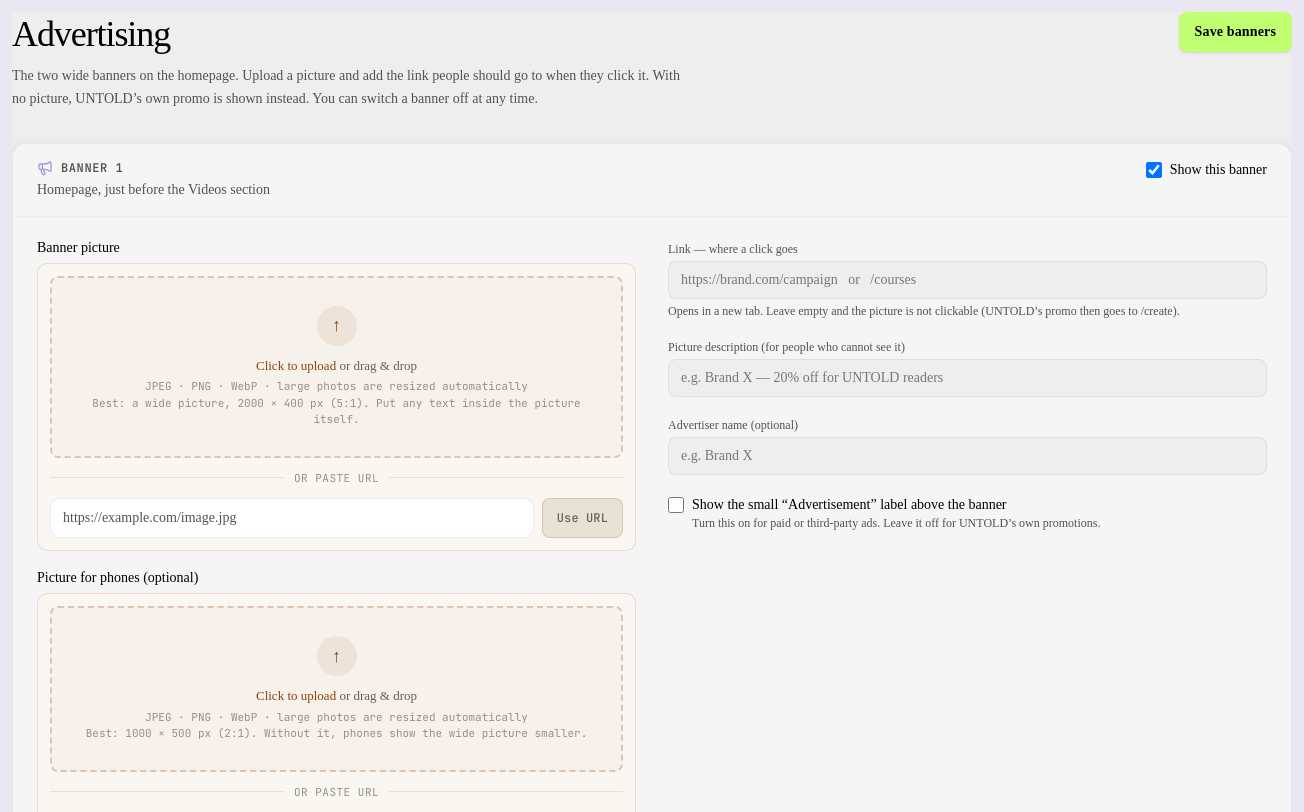
Test: BannersForm (Admin → Advertising) › saves what was typed and confirms it
The width and height of the screenshot is (1304, 812).
Type "https://brand.com/offer" into the field labelled "Link — where a click goes". click: x=968, y=280
box: 668,260 -> 1267,298
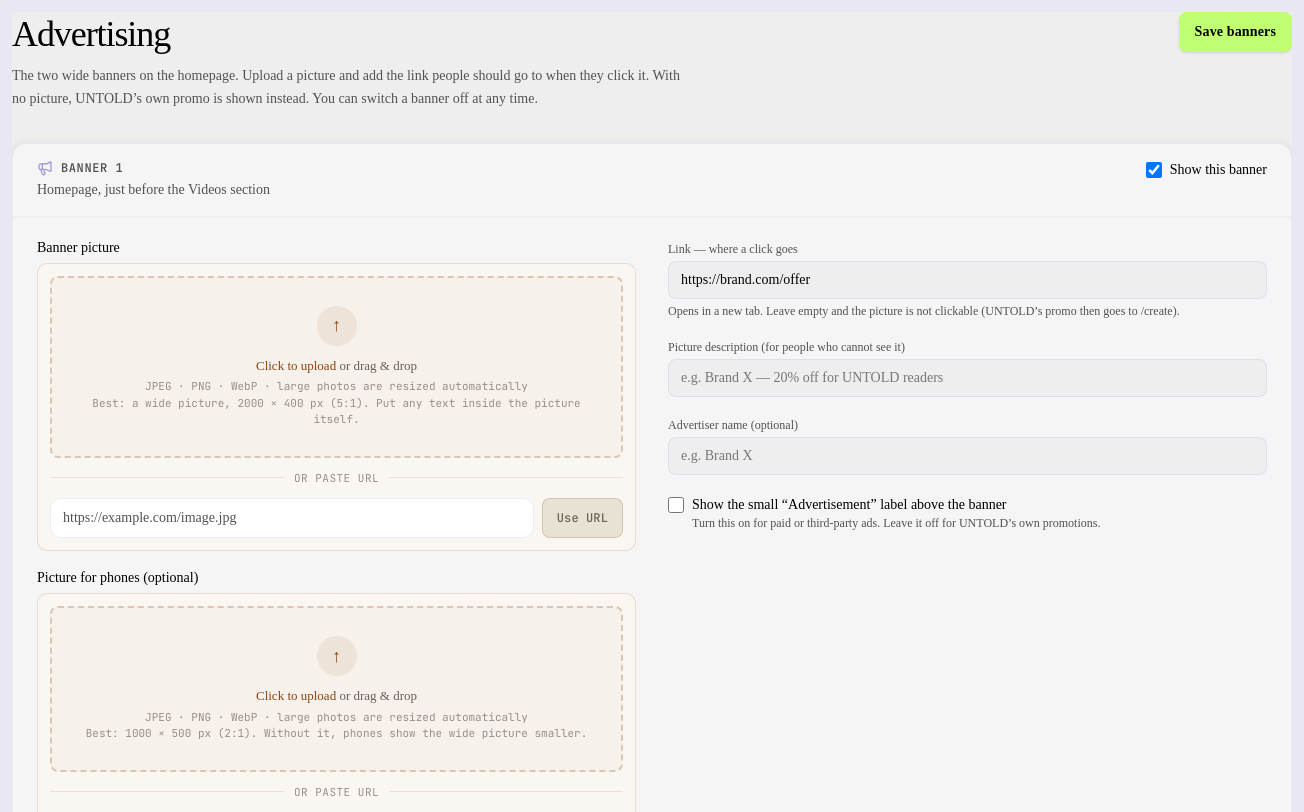
Click the button "Save banners". click: x=1235, y=32
box: 1179,12 -> 1292,52
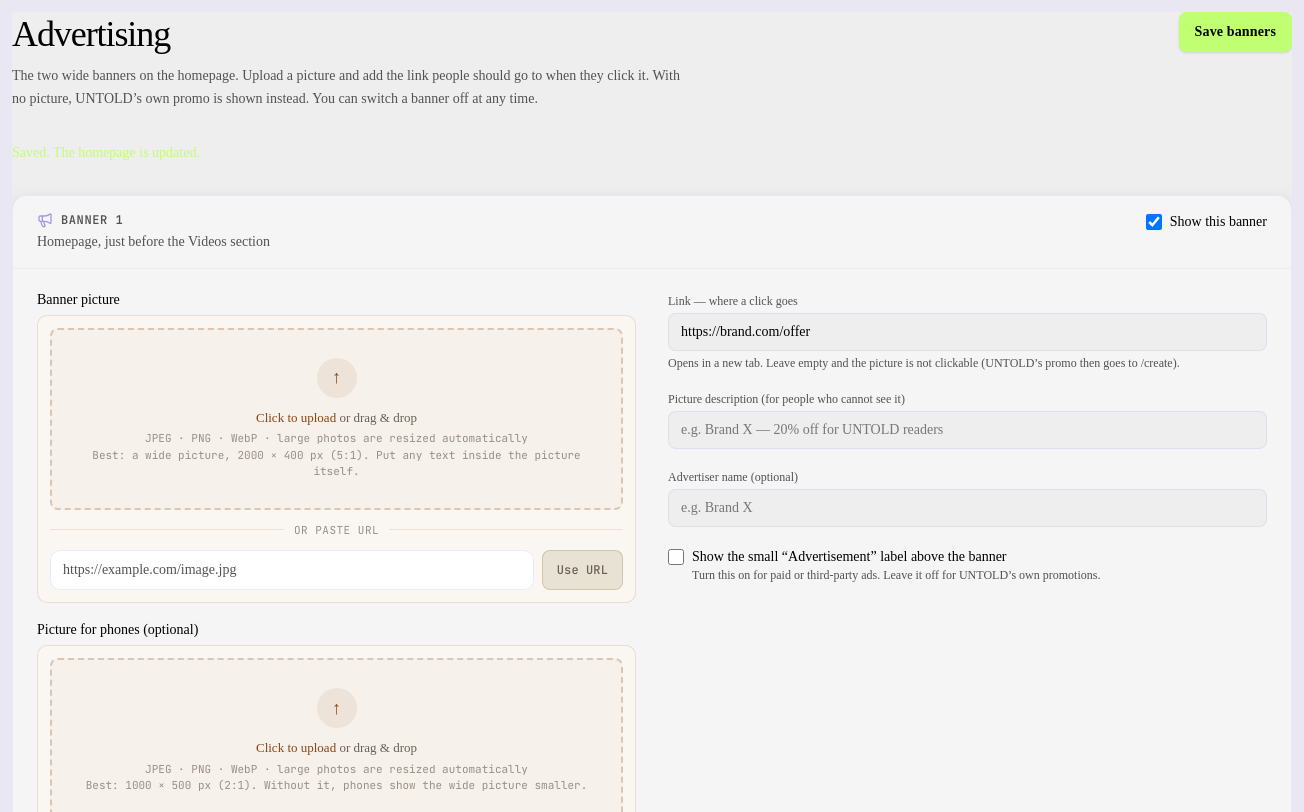
Expected: the text "Saved. The homepage is updated." is shown, 12,144 -> 200,160
